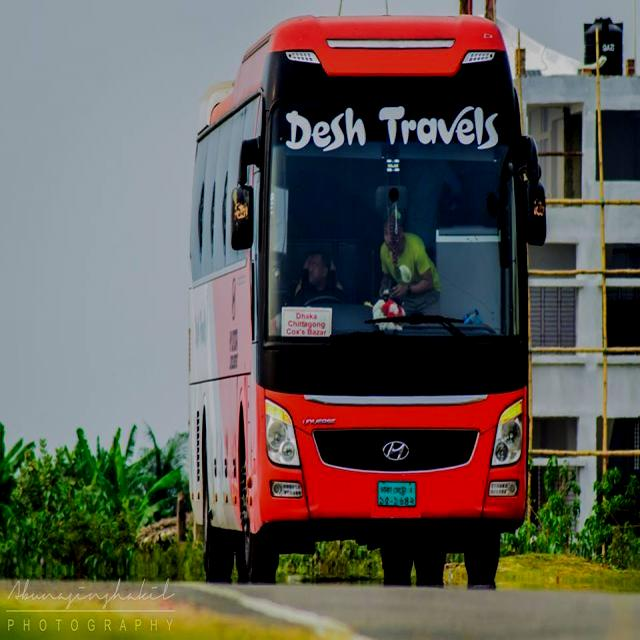bus: (189, 13, 547, 590)
